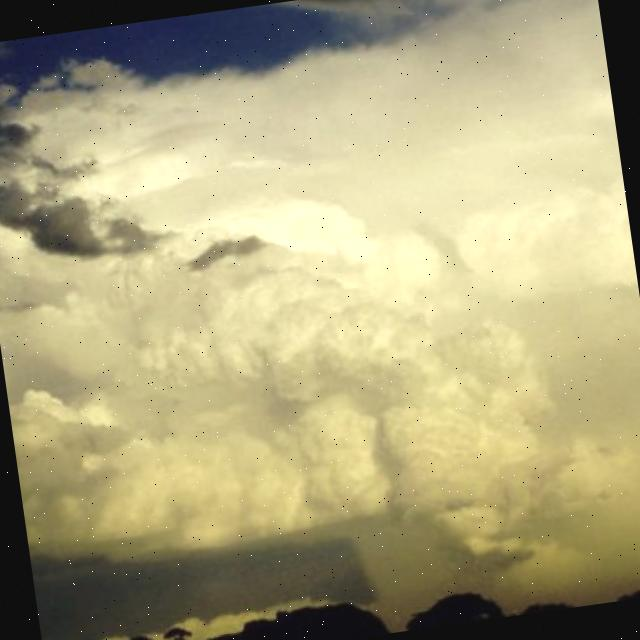Cb: (1, 28, 640, 565)
